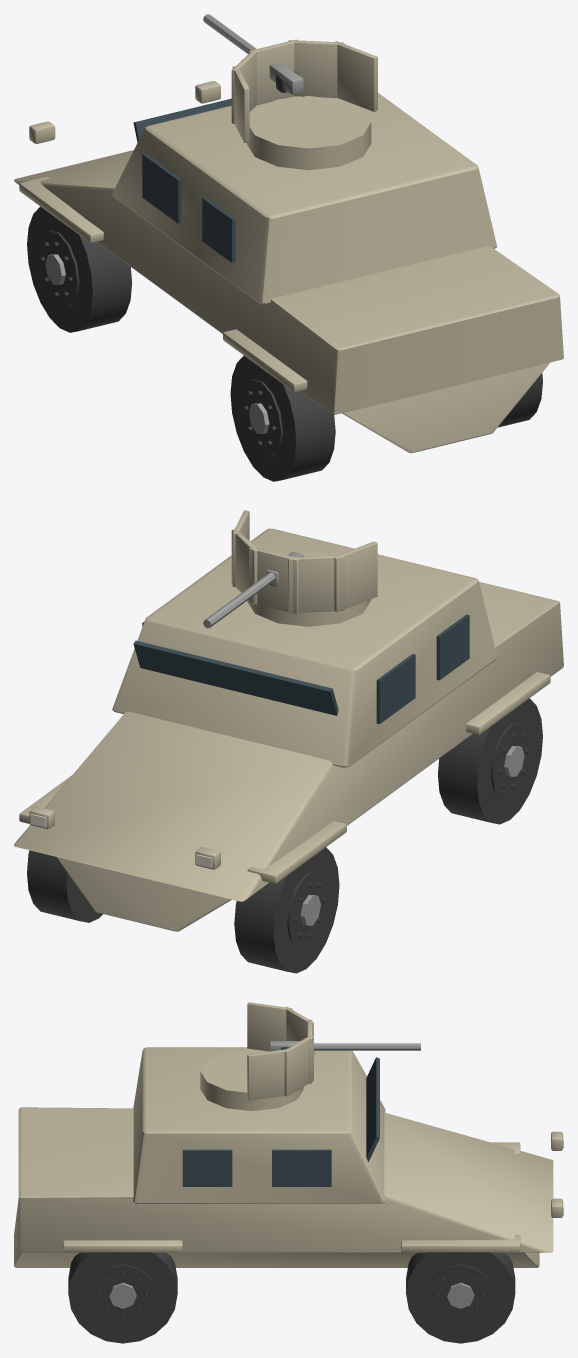
File: usa_lv_jltv_gp.glb
3 renders of one model, top to bottom at view 1: azimuth 30°, elevation 25°; view 2: azimuth 150°, elevation 25°; view 3: azimuth 270°, elevation 25°, orthographic. The views are drawn at different scales.
Parts seen in each view (by area): view 1: body, turret, wheel_2, wheel_0, barrel, wheel_3; view 2: body, turret, wheel_0, wheel_2, wheel_1, barrel; view 3: body, wheel_3, wheel_1, turret, barrel.
Part boxes in pixels (bbox=[...]): body: bbox=[14, 81, 563, 453]; turret: bbox=[231, 39, 377, 170]; wheel_2: bbox=[230, 355, 335, 481]; wheel_0: bbox=[27, 206, 132, 332]; barrel: bbox=[203, 14, 303, 94]; wheel_3: bbox=[498, 373, 542, 427]; body: bbox=[14, 528, 563, 931]; turret: bbox=[231, 510, 377, 626]; wheel_0: bbox=[234, 847, 339, 973]; wheel_2: bbox=[438, 698, 542, 824]; wheel_1: bbox=[27, 850, 102, 922]; barrel: bbox=[203, 551, 303, 628]; body: bbox=[14, 1047, 563, 1267]; wheel_3: bbox=[68, 1252, 177, 1343]; wheel_1: bbox=[406, 1252, 515, 1343]; turret: bbox=[200, 1002, 313, 1110]; barrel: bbox=[269, 1041, 420, 1054].
Size of the model in its own units: 2.5 by 2.94 by 5.54.
